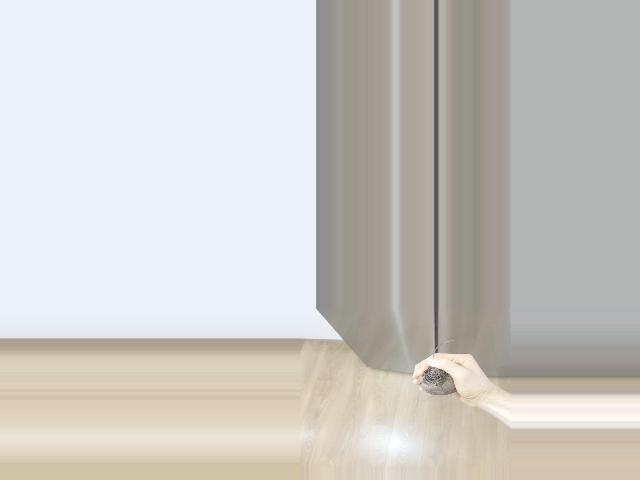beet: (417, 339, 456, 395)
